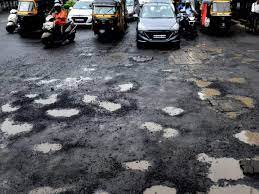potholes: (79, 87, 129, 123)
